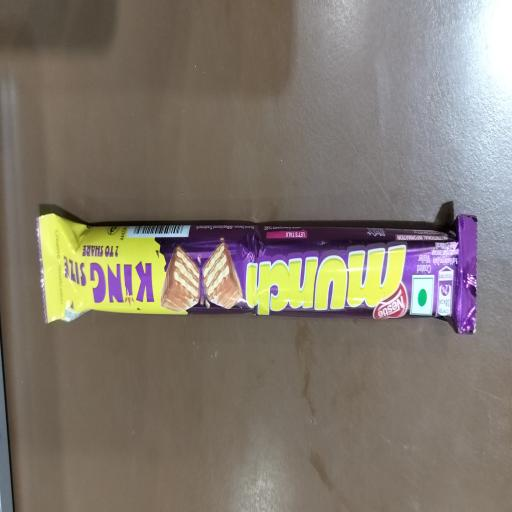chocolate: (42, 210, 484, 328)
munch: (244, 252, 400, 305)
